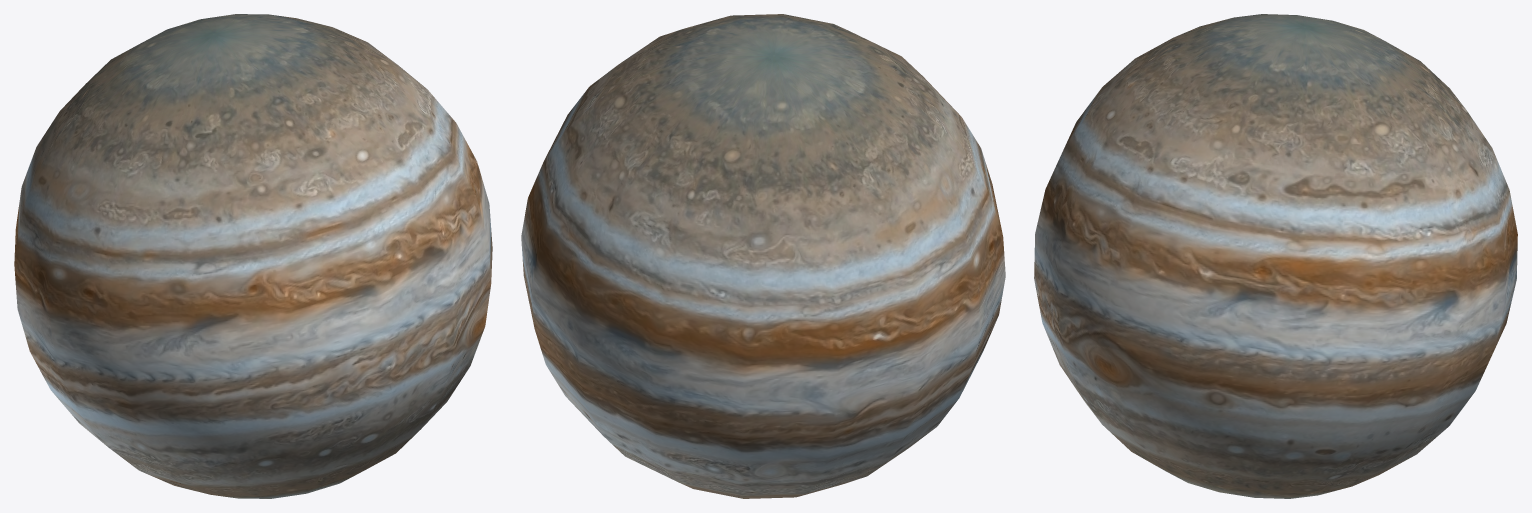
Rendered from jupiter_self.obj.
3 renders of one model, left to right at view 1: azimuth 30°, elevation 25°; view 2: azimuth 150°, elevation 25°; view 3: azimuth 270°, elevation 25°, orthographic.
Visible parts, largest first — view 1: Sphere; view 2: Sphere; view 3: Sphere.
Part boxes in pixels (left/top/right/bottom): Sphere: left=14, top=14, right=492, bottom=498; Sphere: left=521, top=14, right=1005, bottom=498; Sphere: left=1034, top=14, right=1517, bottom=498.
Size of the model in its own units: 4.98 by 5 by 4.98.
Materials: 1 (1 with a texture image).
